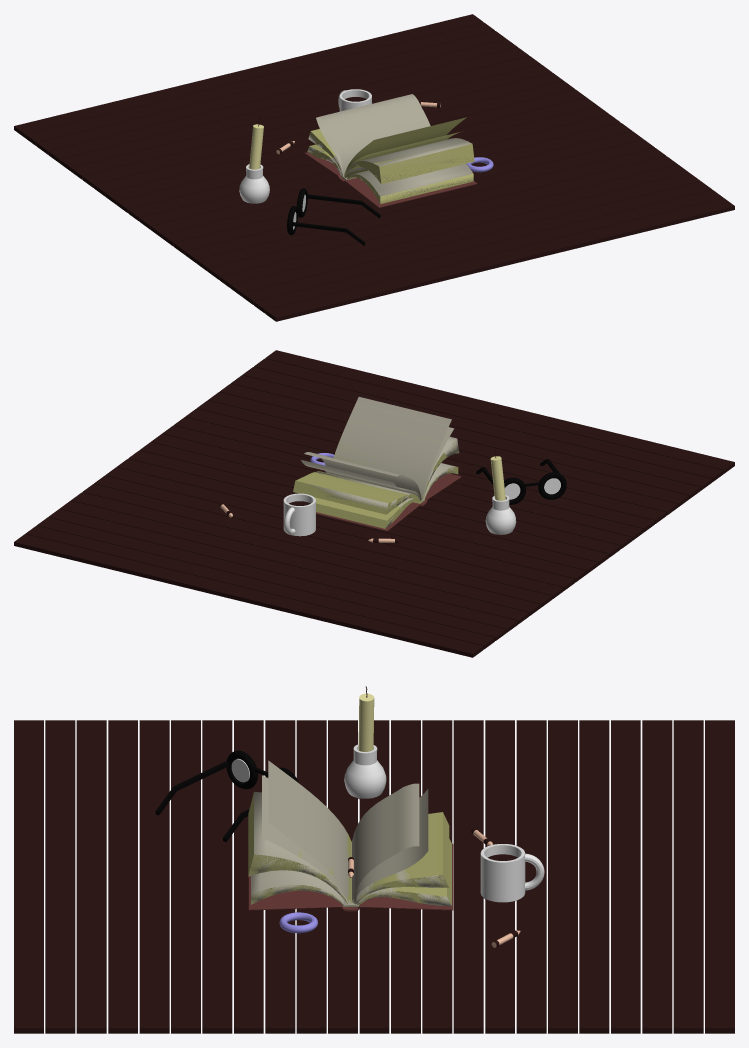
File: BookAtable.fbx
3 renders of one model, top to bottom at view 1: azimuth 30°, elevation 25°; view 2: azimuth 150°, elevation 25°; view 3: azimuth 270°, elevation 25°, orthographic. The views are drawn at different scales.
Parts seen in each view (by area): view 1: Cube, Cube.001, Cube.002, Glasses, Cylinder, Cylinder.002, Cylinder.001; view 2: Cube, Cube.001, Cube.002, Cylinder.002, Glasses, Cylinder, Cylinder.001; view 3: Cube, Cube.001, Cube.002, Cylinder.002, Cylinder, Glasses, Cylinder.001, Cylinder.005.
Boxes of the visible parts, bbox=[...] form: Cube: bbox=[14, 14, 734, 321]; Cube.001: bbox=[25, 31, 734, 317]; Cube.002: bbox=[304, 94, 476, 207]; Glasses: bbox=[287, 188, 380, 245]; Cylinder: bbox=[239, 164, 269, 203]; Cylinder.002: bbox=[338, 89, 371, 111]; Cylinder.001: bbox=[249, 118, 263, 169]; Cube: bbox=[14, 358, 734, 657]; Cube.001: bbox=[25, 350, 734, 656]; Cube.002: bbox=[301, 397, 460, 531]; Cylinder.002: bbox=[283, 493, 315, 536]; Glasses: bbox=[476, 459, 566, 504]; Cylinder: bbox=[485, 495, 516, 534]; Cylinder.001: bbox=[490, 449, 505, 500]; Cube: bbox=[14, 720, 734, 1033]; Cube.001: bbox=[14, 720, 734, 1033]; Cube.002: bbox=[248, 760, 451, 911]; Cylinder.002: bbox=[480, 844, 544, 902]; Cylinder: bbox=[344, 744, 386, 799]; Glasses: bbox=[155, 750, 298, 841]; Cylinder.001: bbox=[358, 686, 374, 751]; Cylinder.005: bbox=[279, 912, 317, 933].
Size of the model in its own units: 1068 by 184 by 1057.
